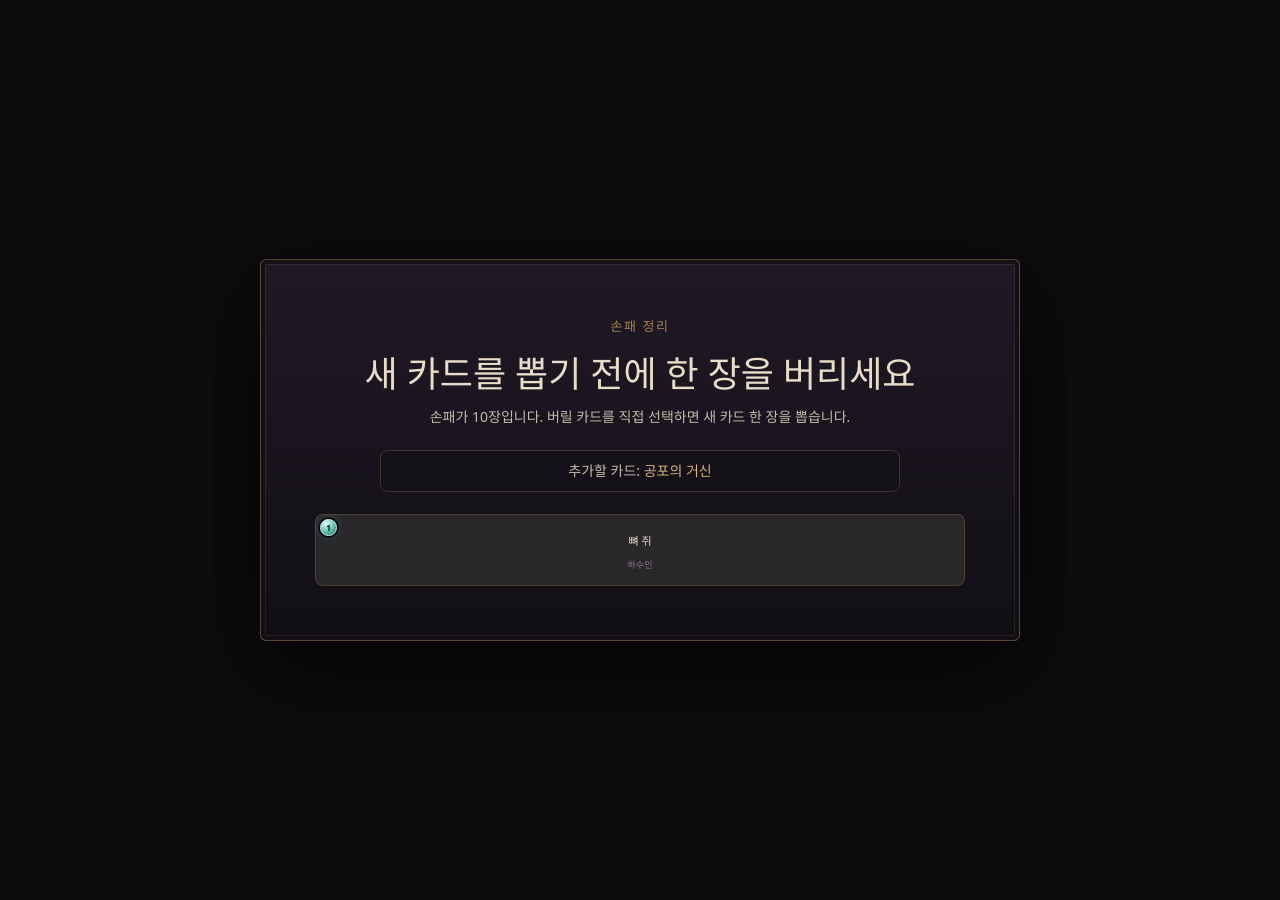
Test: DiscardPicker › opens the added card's details on a touch tap without a discard action
The width and height of the screenshot is (1280, 900).
Step 1. Click the button "공포의 거신" → x=678, y=471, box [644,460,712,482]
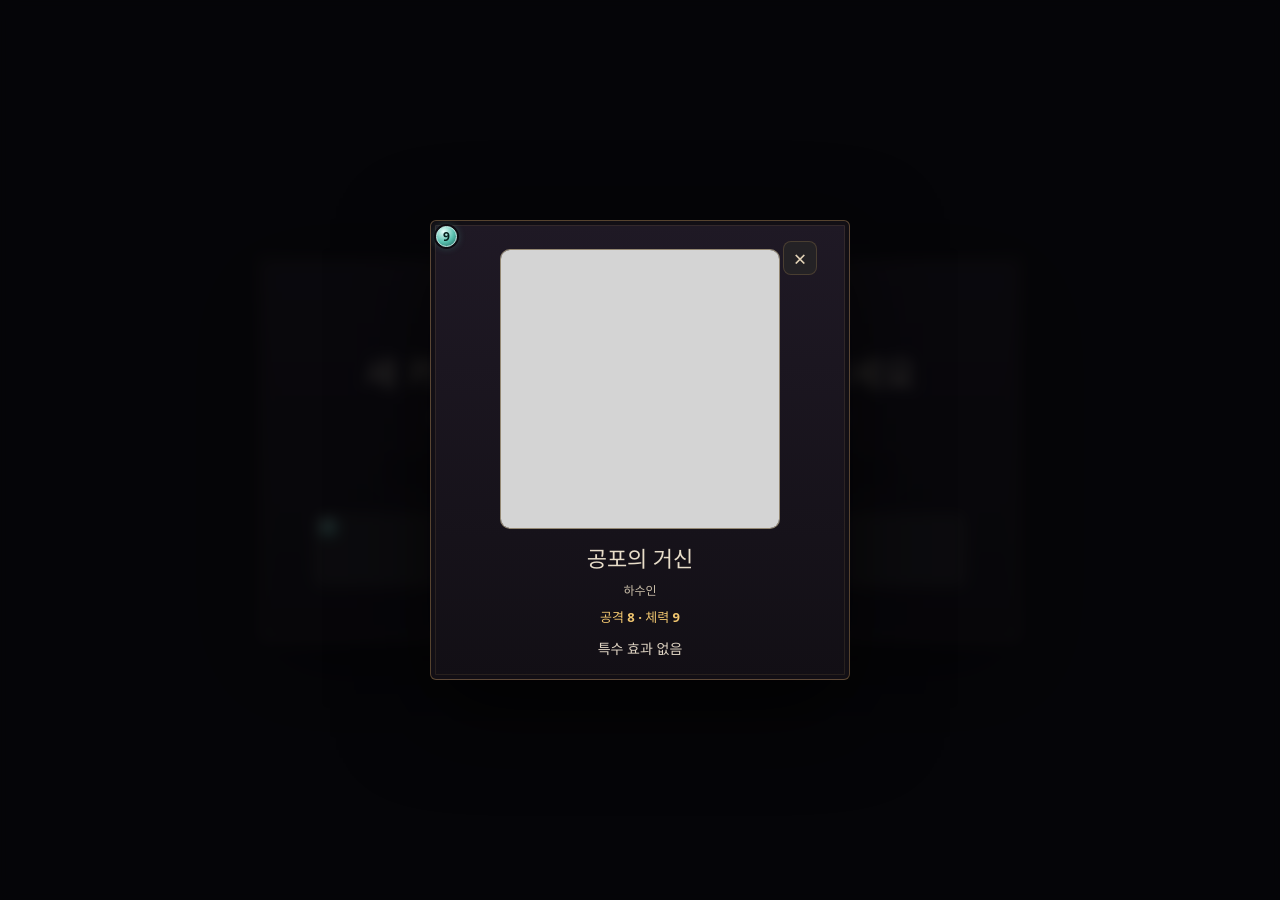
Now the dialog shows "공포의 거신", box [587,547,693,572]
